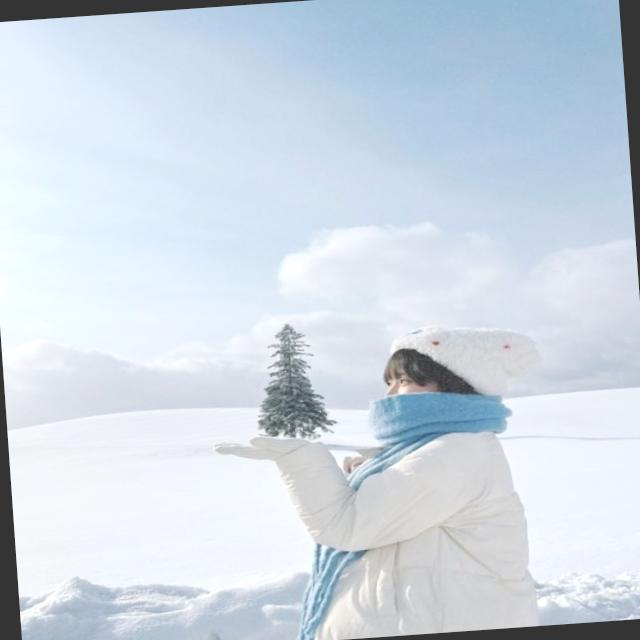padding: (266, 413, 528, 640)
